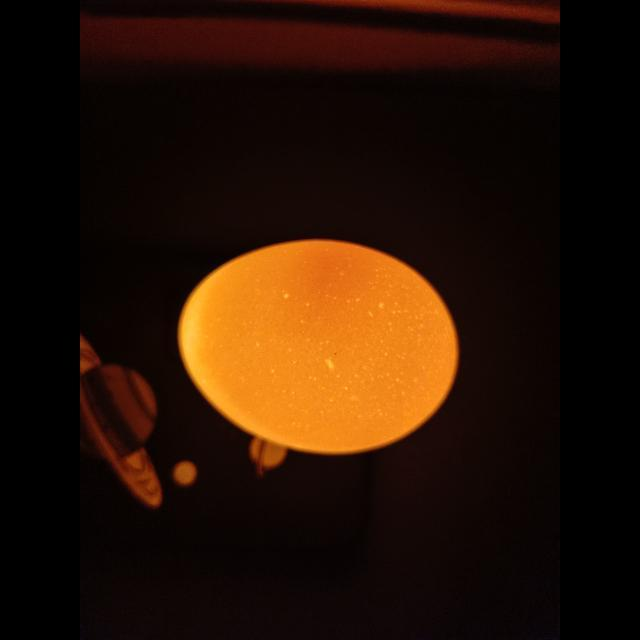AA - Premium: (179, 240, 459, 454)
